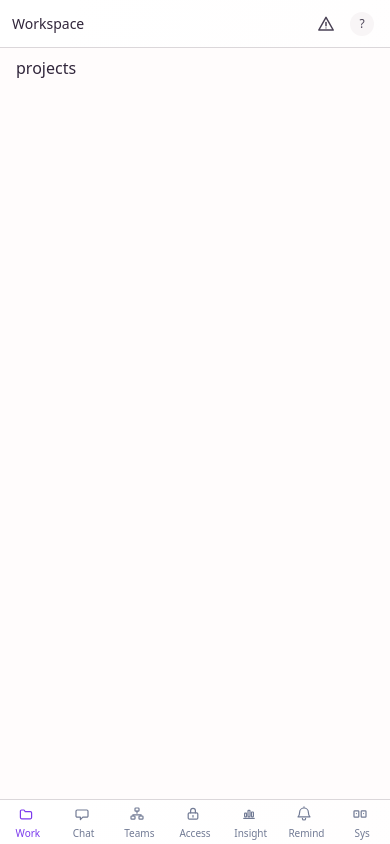
Mobile module nav sheet — col② reflowed into a bottom sheet › navigating from the sheet routes to the section and closes the sheet
This screenshot has width=390, height=844.
Click the button with test id "mobile-nav-toggle": click(48, 23) x1=12 y1=14 x2=302 y2=34
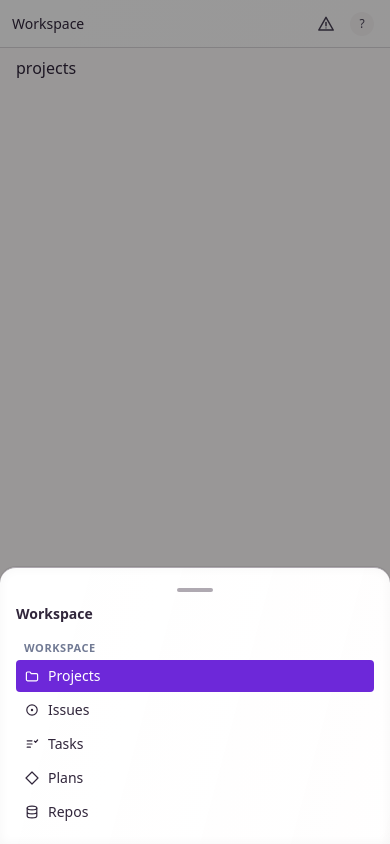
Click the link "Tasks": click(54, 744) x1=24 y1=734 x2=83 y2=753
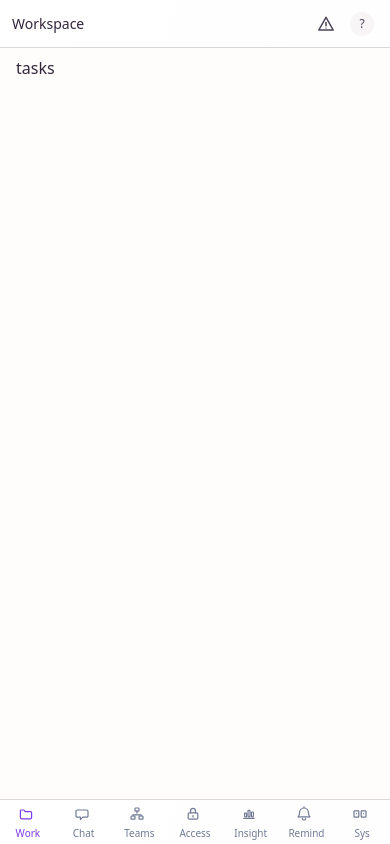
Now the dialog with test id "mobile-nav-sheet" is gone
Now the text "tasks" is shown, box x1=16 y1=57 x2=55 y2=79
